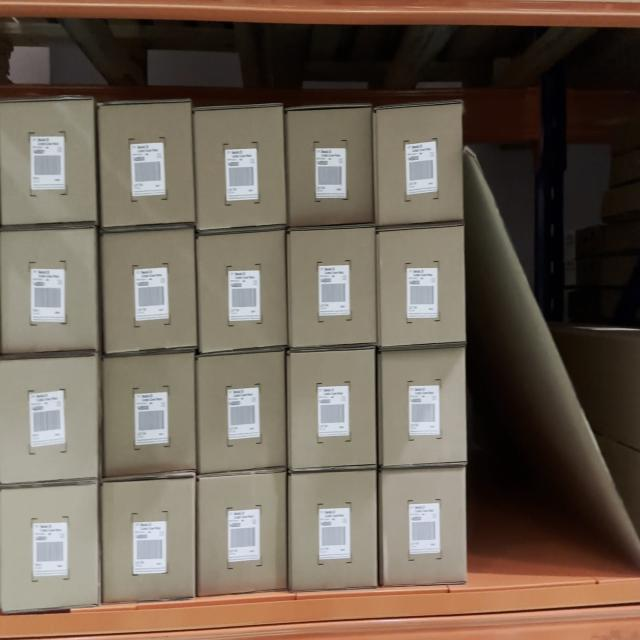box: (1, 229, 96, 355), (1, 361, 98, 479), (1, 100, 93, 224), (1, 491, 99, 605), (103, 357, 195, 476), (102, 103, 190, 225), (102, 235, 196, 348), (102, 487, 195, 598), (198, 107, 282, 228), (199, 479, 288, 592), (199, 353, 284, 470), (290, 474, 378, 586), (377, 107, 461, 224), (289, 232, 377, 342), (381, 350, 465, 465), (197, 237, 286, 345), (377, 234, 465, 342), (291, 351, 373, 466), (289, 110, 370, 225), (380, 475, 466, 580)
